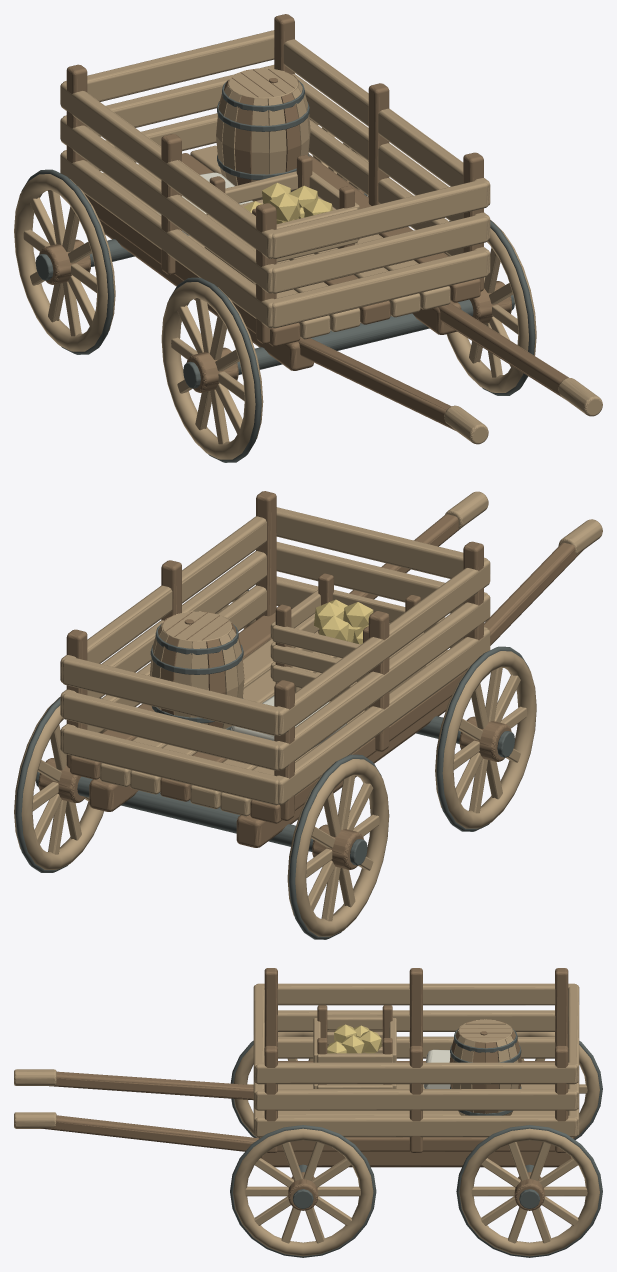
Rendered from SM_Cart.fbx.
The picture shows the model from 3 angles, top to bottom: view 1: azimuth 30°, elevation 25°; view 2: azimuth 150°, elevation 25°; view 3: azimuth 270°, elevation 25°; orthographic projection. The views are drawn at different scales.
Visible parts, largest first — view 1: SM_Cart; view 2: SM_Cart; view 3: SM_Cart.
Boxes of the visible parts, x1=… form: SM_Cart: x1=14, y1=14, x2=602, y2=462; SM_Cart: x1=14, y1=491, x2=602, y2=939; SM_Cart: x1=14, y1=968, x2=602, y2=1257.
Bounding box in the file's own units: 213 × 442 × 164.
